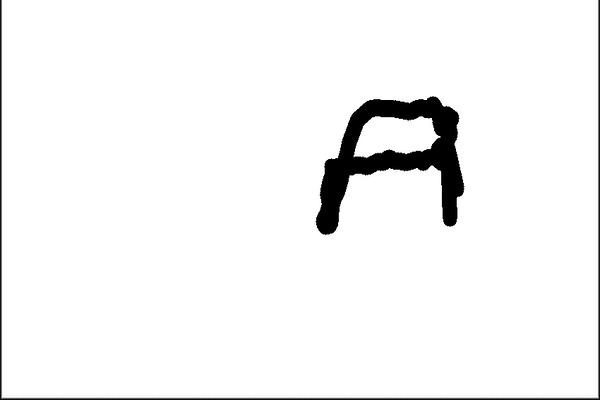A: (309, 85, 467, 243)
